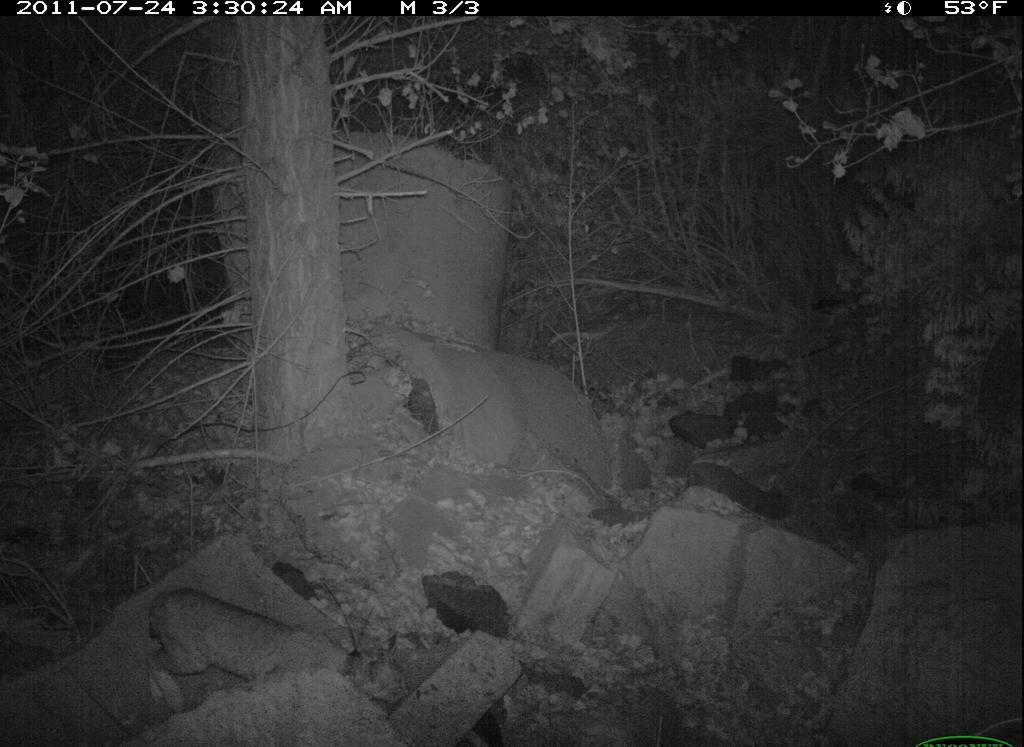bobcat: (155, 560, 417, 710)
